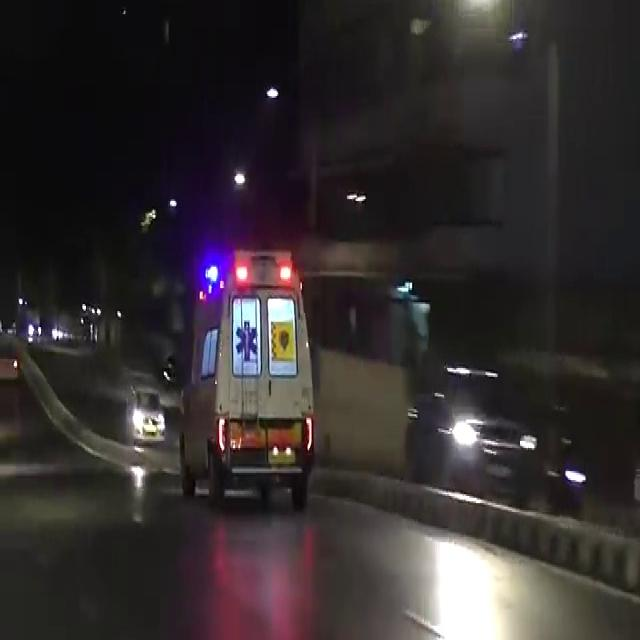ambulance: (195, 226, 338, 490)
